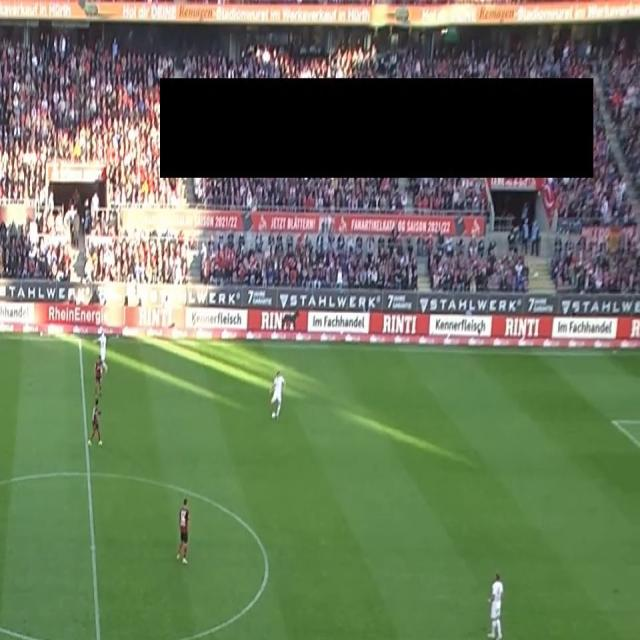ball: (272, 410, 277, 420)
